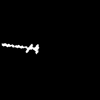double_crochet: (2, 44, 38, 53)
